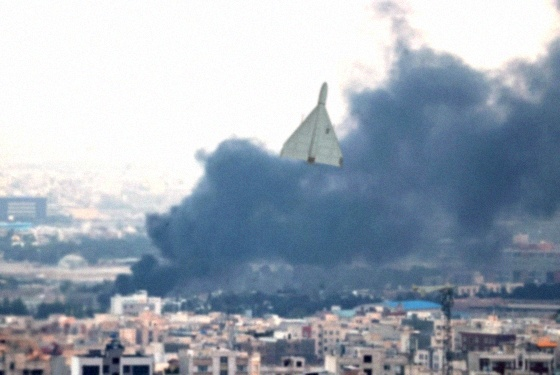shahed: (277, 79, 345, 169)
